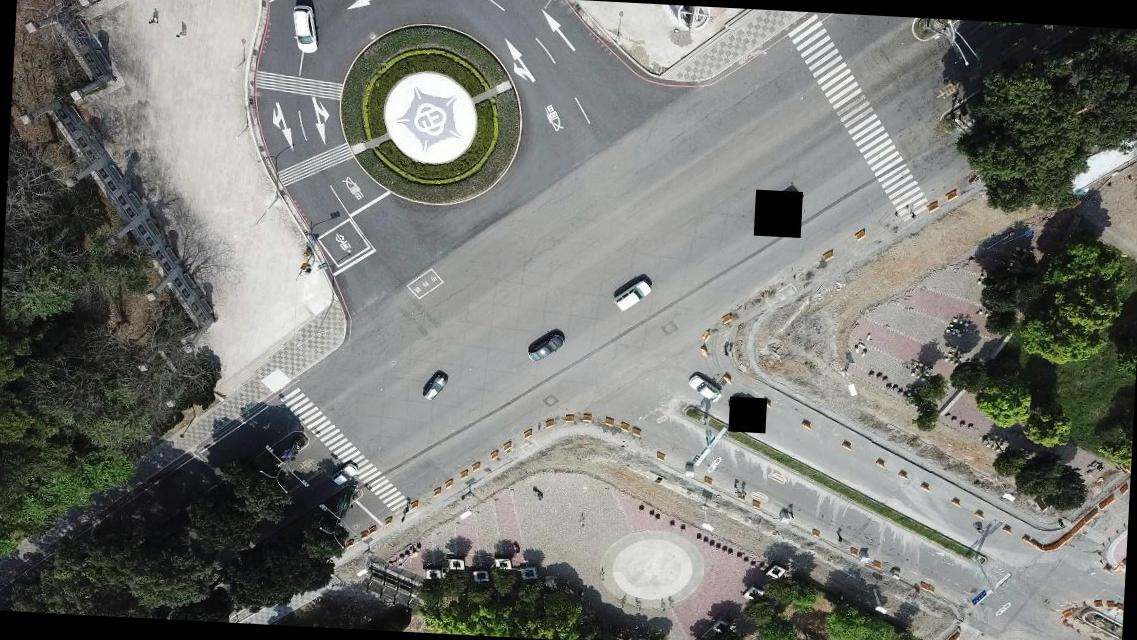vehicle: (612, 276, 655, 314), (526, 328, 564, 365), (290, 5, 318, 55), (687, 373, 721, 403), (422, 370, 448, 402), (331, 462, 358, 487)
